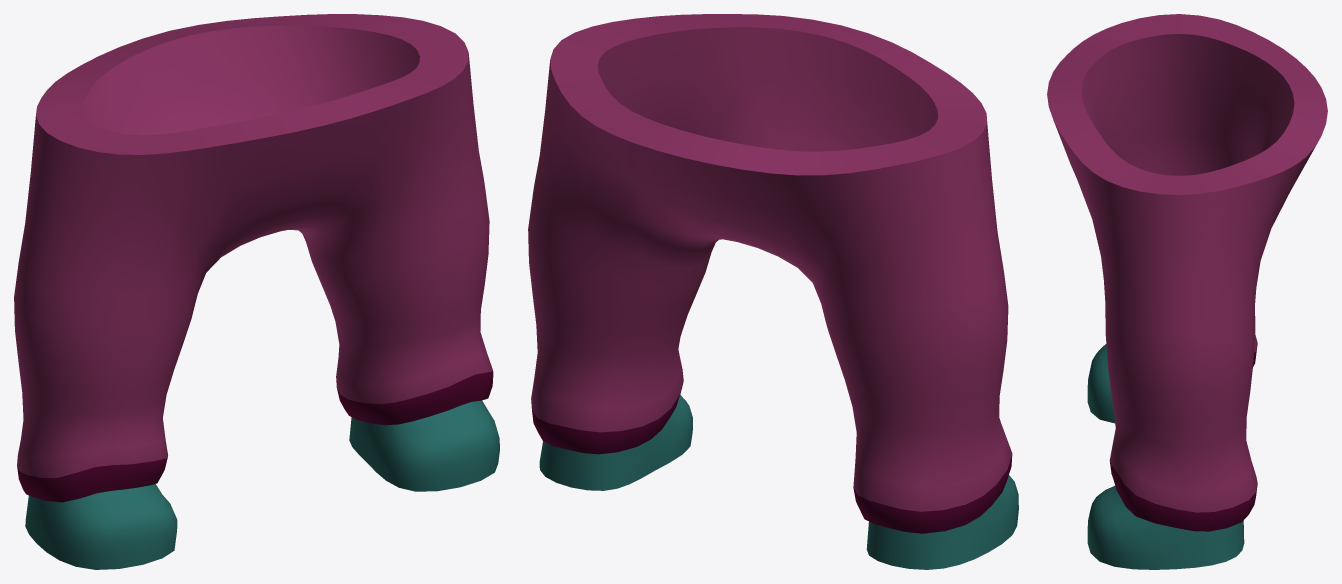
File: 2滑雪裤.fbx
3 renders of one model, left to right at view 1: azimuth 30°, elevation 25°; view 2: azimuth 150°, elevation 25°; view 3: azimuth 270°, elevation 25°, orthographic. The views are drawn at different scales.
Visible parts, largest first — view 1: 2滑雪裤; view 2: 2滑雪裤; view 3: 2滑雪裤.
Part boxes in pixels (<box>): 2滑雪裤: <box>14,14,499,569</box>; 2滑雪裤: <box>528,14,1018,569</box>; 2滑雪裤: <box>1047,14,1327,569</box>.
Bounding box in the file's own units: 0.6534 × 0.5731 × 0.382.
